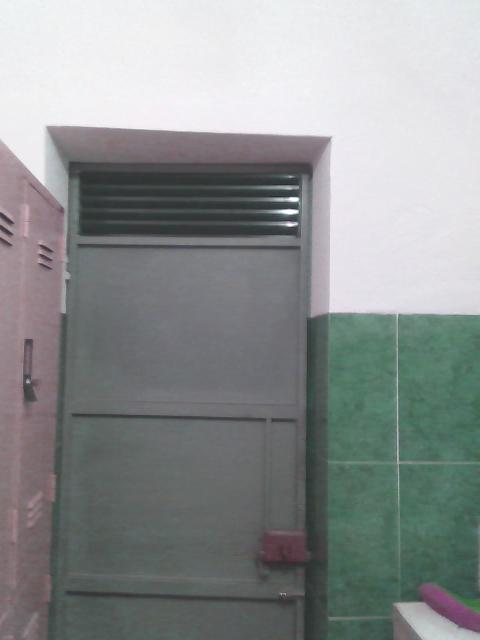closed_door: (45, 160, 312, 638)
